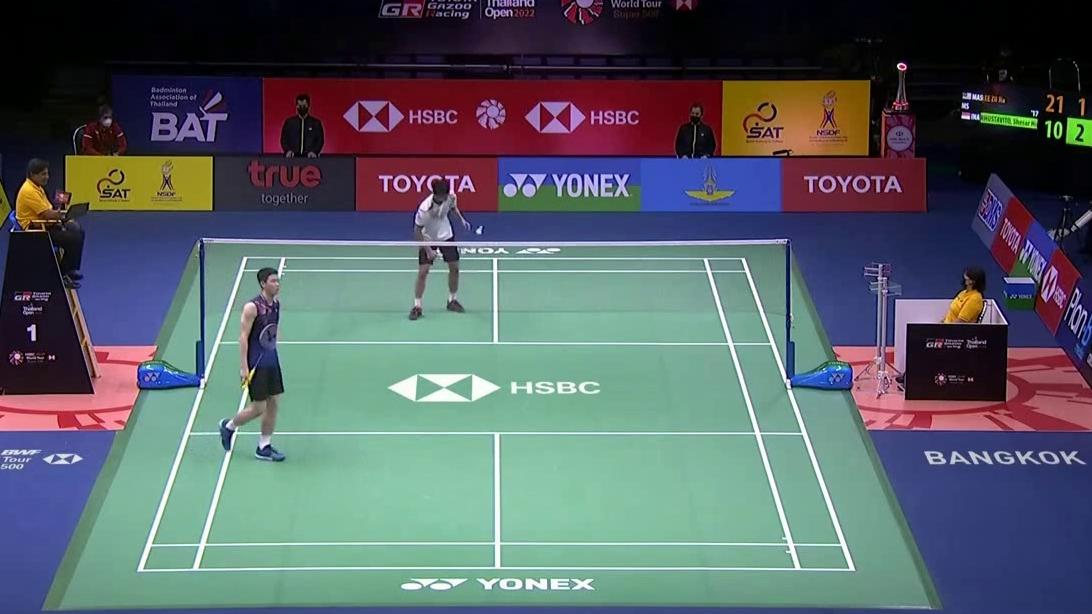racket: (244, 325, 280, 388)
shuttle: (476, 225, 483, 234)
